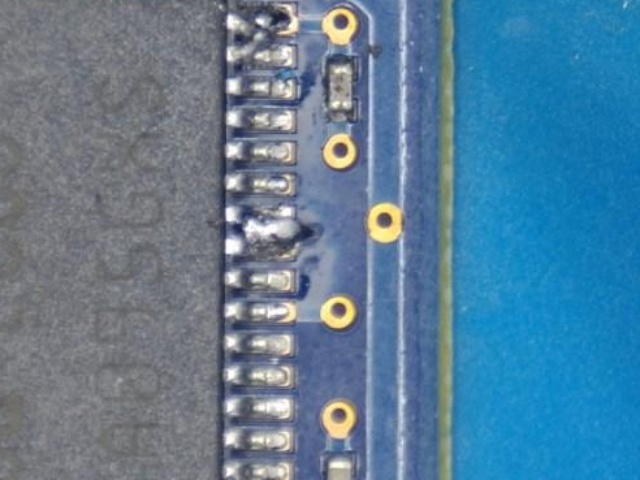pcb_defect: (226, 6, 292, 70), (226, 203, 298, 259)
